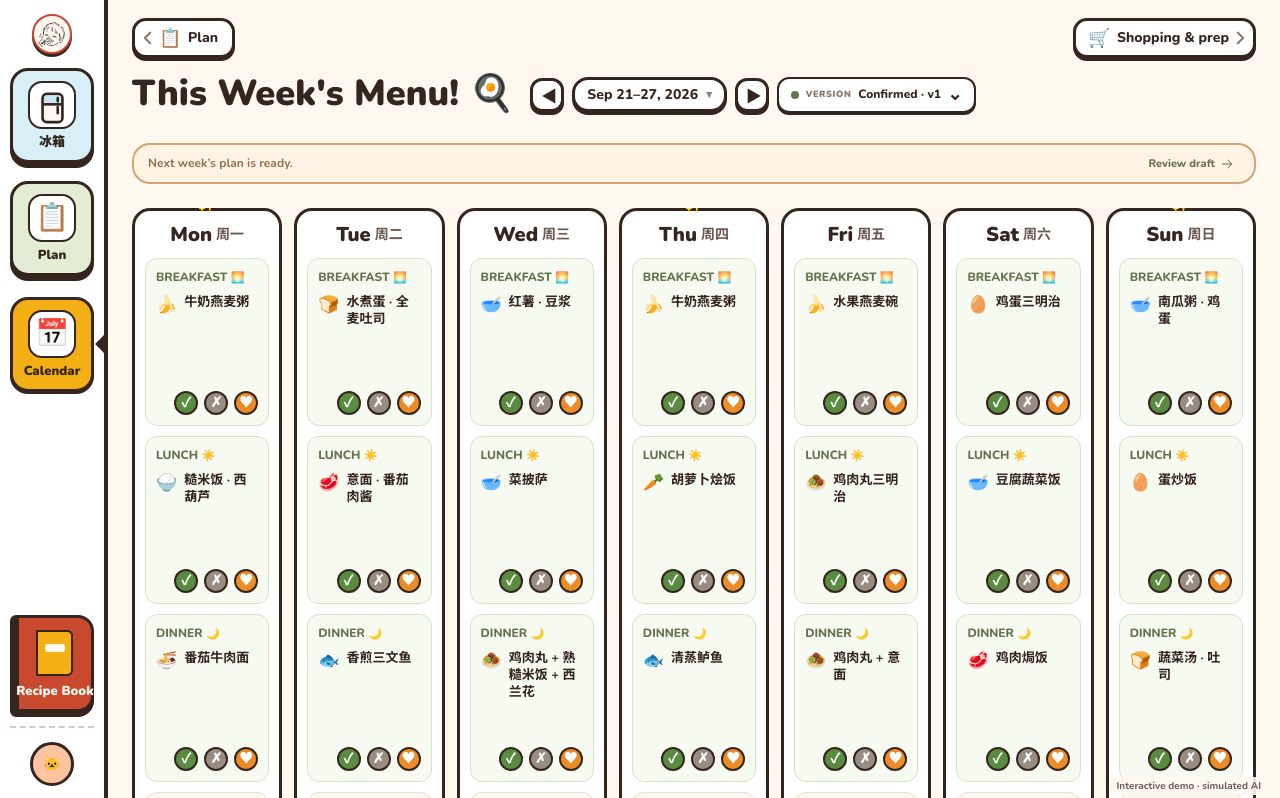
it: kitchen workspace navigation and concurrency › opens the ready next-week draft with its exact week and plan
Click the button "Review draft": (1191, 164) [1143, 155, 1240, 172]
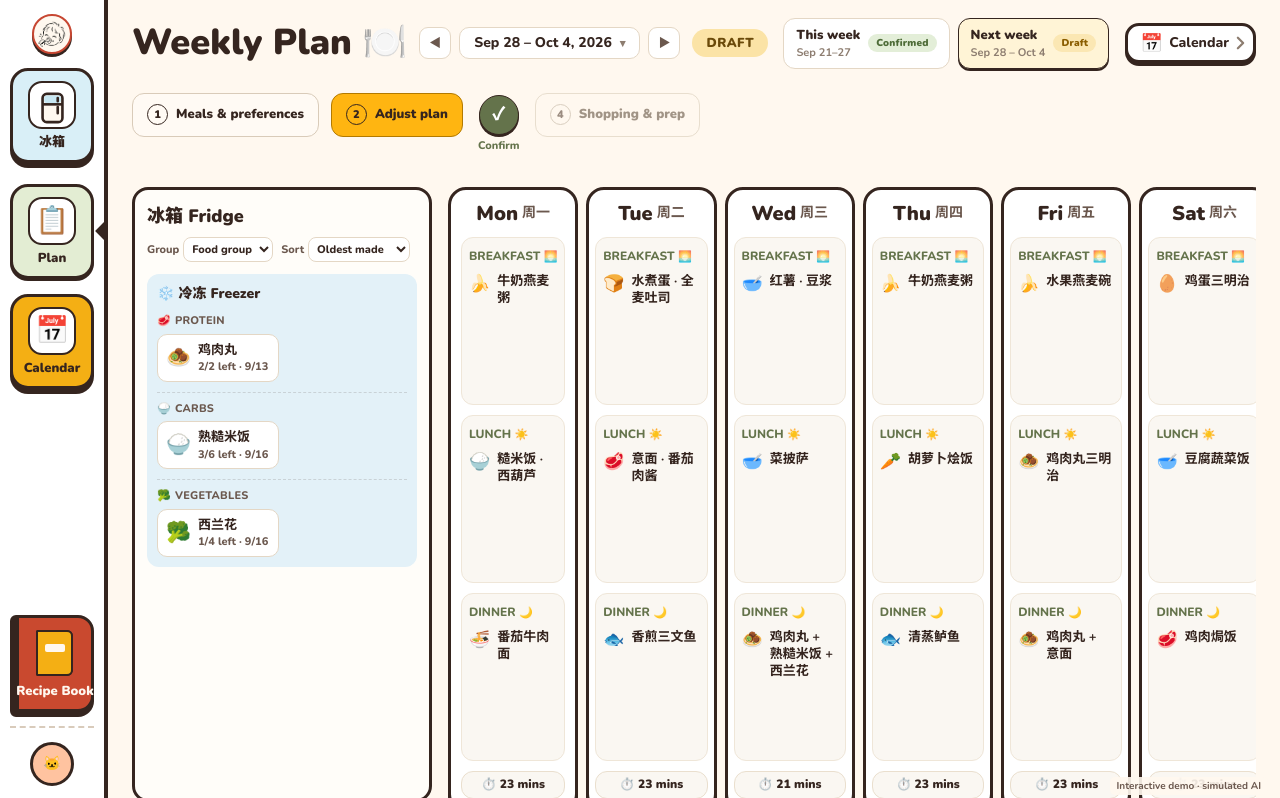
Check: the text "DRAFT" is shown, box [692, 29, 768, 57]
